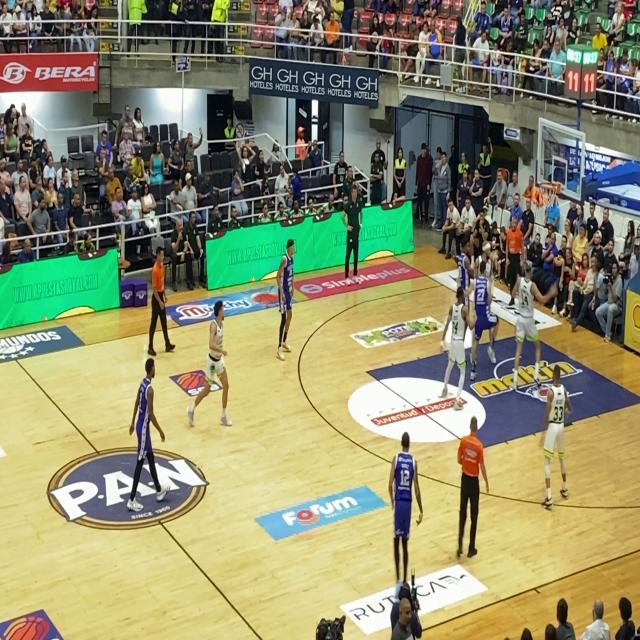referee: (453, 402, 492, 566), (145, 238, 176, 364), (506, 202, 526, 285)
team1: (196, 287, 241, 453), (510, 252, 548, 400), (541, 356, 571, 513), (439, 276, 468, 409)
team2: (124, 353, 164, 525), (388, 424, 425, 587), (270, 230, 307, 365), (474, 259, 500, 373), (457, 230, 474, 323)
ubasket: (538, 178, 558, 213)
